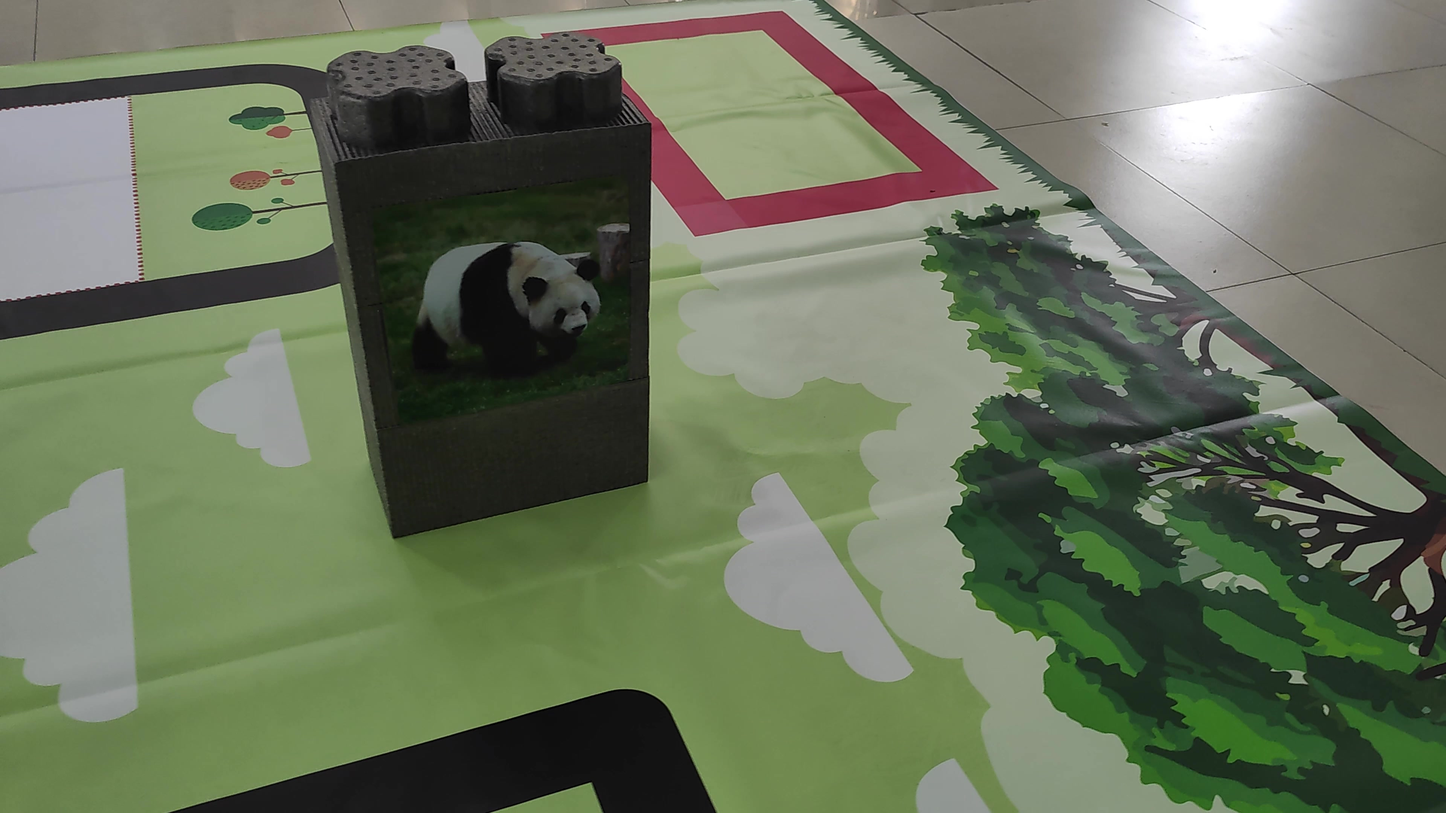panda: (398, 225, 616, 390)
